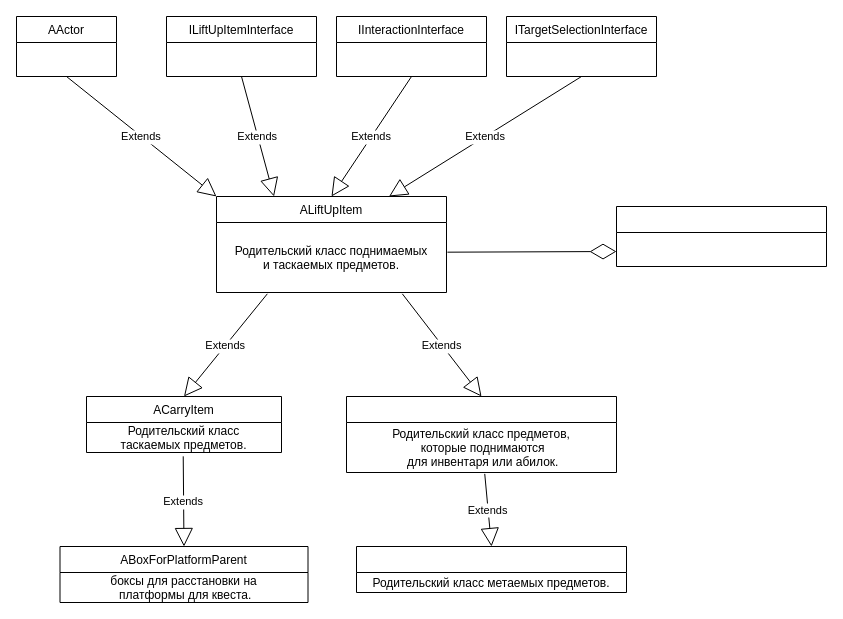
Image size: 843x619. Some labels were removed from this diagram. Each missing label, with the box of its shape:
APickUpItem: (346, 396, 616, 472)
AThrowableItem: (356, 546, 626, 592)
UUpDownLiftUpItemComponent: (616, 206, 826, 266)
